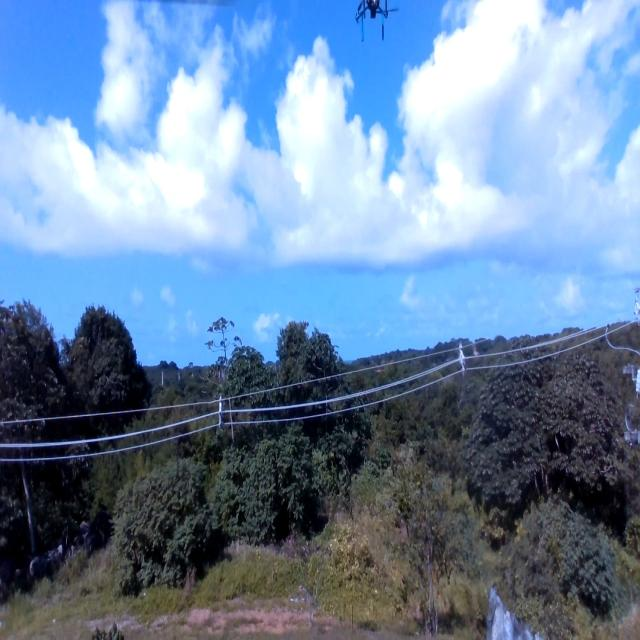-uav-: (356, 0, 397, 44)
